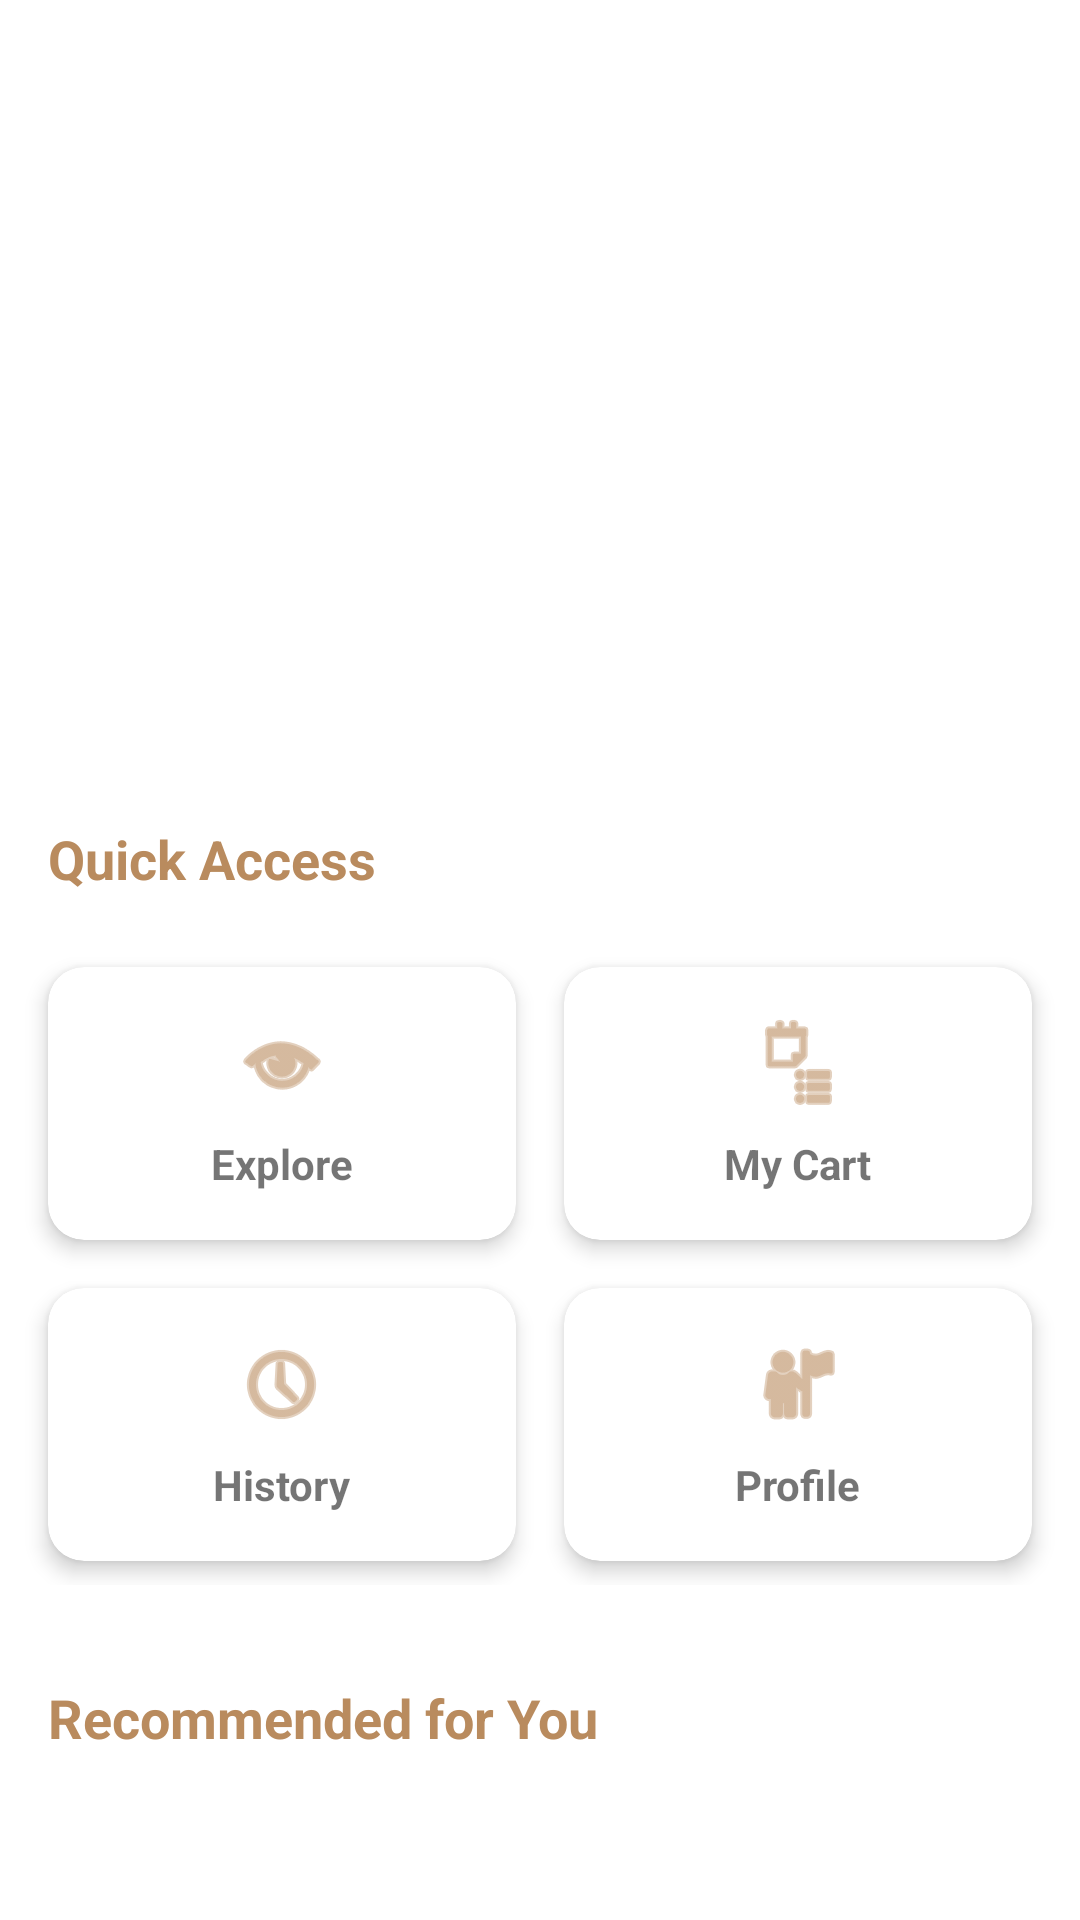

Screen size 1080px×1920px. Icon name, then its center in pixels as (x=x, y=y):
agenda: (x=798, y=1062)
myplaces: (x=799, y=1384)
view: (x=282, y=1065)
